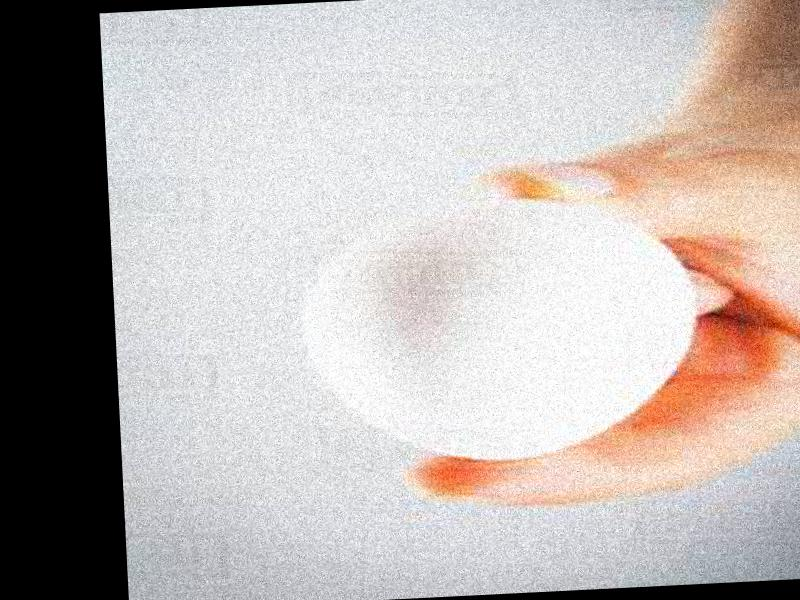Eggs: (298, 195, 699, 469)
